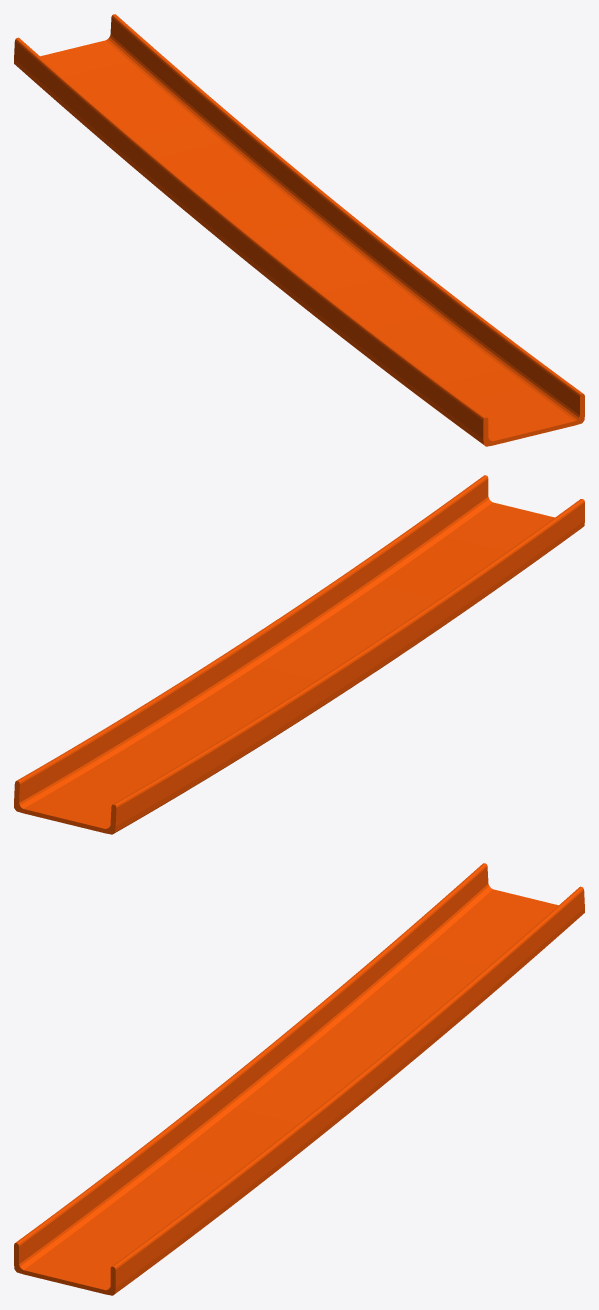
The model's file is Subida 5.FBX.
3 views of the same model, one above another, from view 1: azimuth 30°, elevation 25°; view 2: azimuth 150°, elevation 25°; view 3: azimuth 330°, elevation 25° (orthographic).
Parts seen in each view (by area): view 1: Subida 5; view 2: Subida 5; view 3: Subida 5.
Boxes of the visible parts, box(x1,y1,x2,y2) form: Subida 5: box(14, 14, 584, 446); Subida 5: box(14, 475, 584, 834); Subida 5: box(14, 863, 584, 1295).
Size of the model in its own units: 250 by 156 by 2002.
